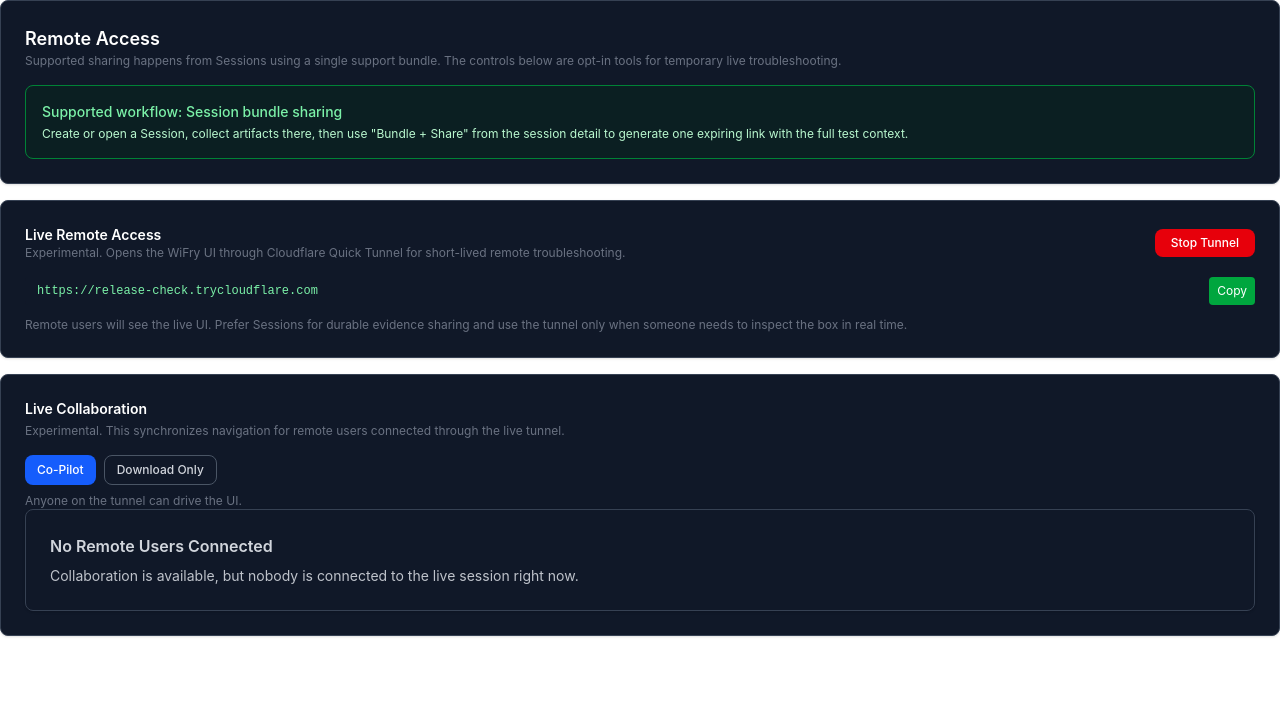
Scenario: SharePanel › updates collaboration mode for the active live session
Expected: the heading "Live Collaboration" is shown, left=25, top=400, right=147, bottom=417
Click the button "Download Only". click: (160, 470)
box: left=104, top=455, right=217, bottom=485
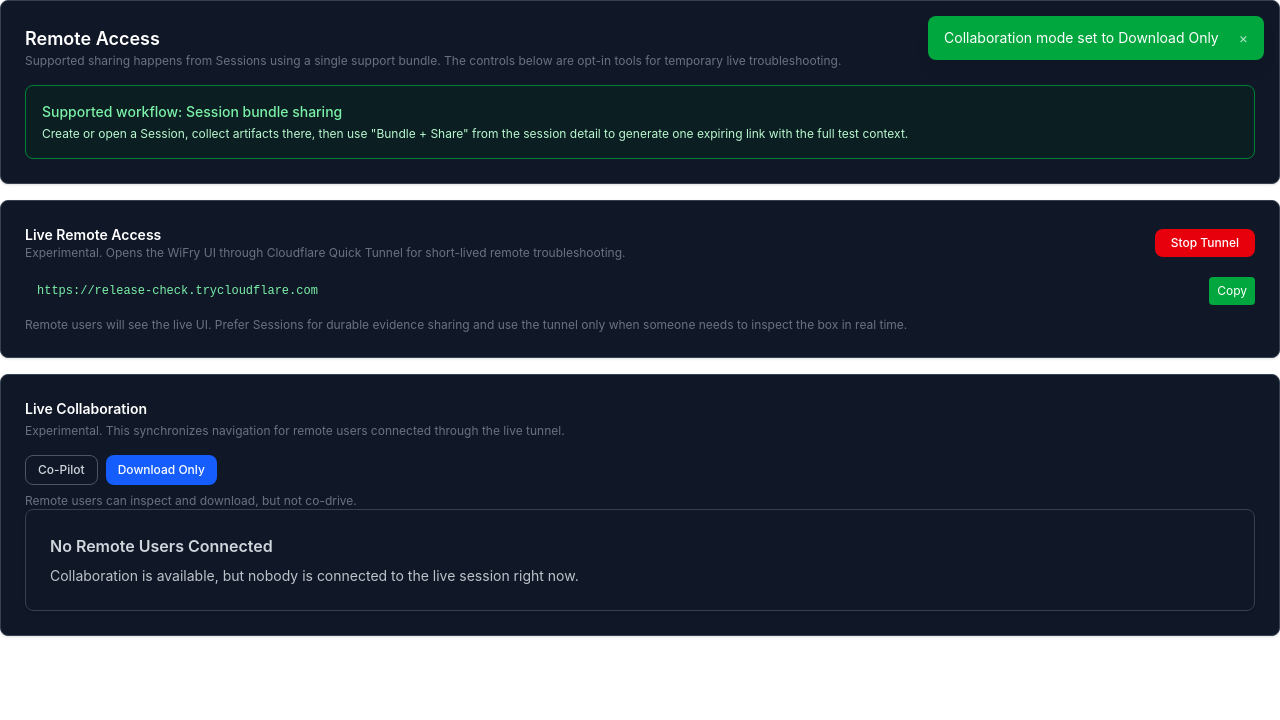
Now the text "Collaboration mode set to Download Only" is shown, box left=944, top=28, right=1219, bottom=48
